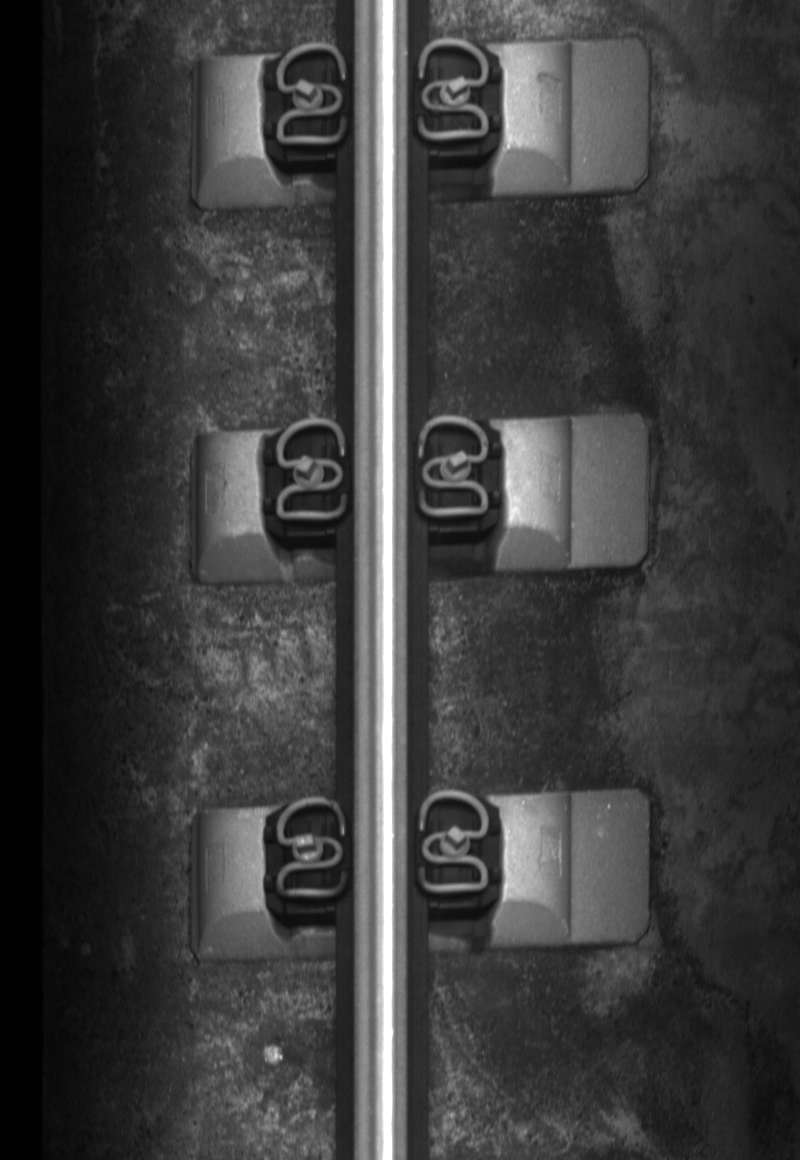l_faster: (268, 409, 352, 528), (270, 37, 351, 152), (270, 790, 352, 902)
r_faster: (410, 36, 498, 150), (415, 788, 495, 900), (414, 414, 491, 522)
